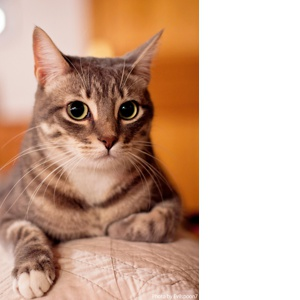cat: (22, 18, 174, 262)
